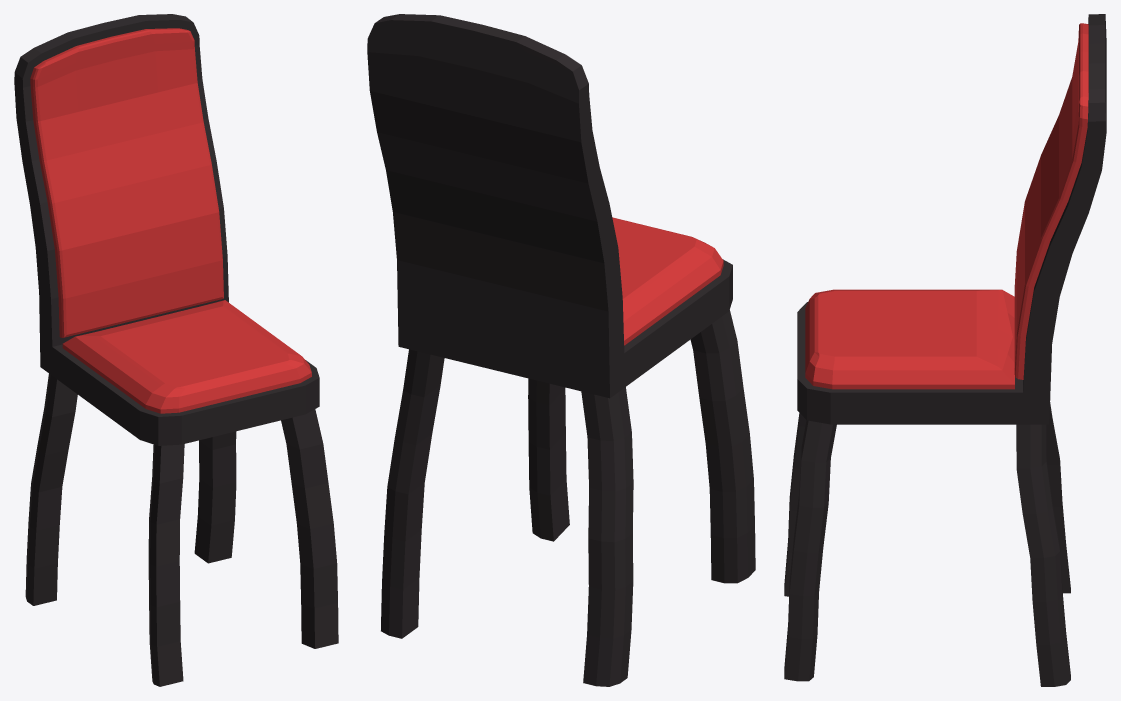
The model's file is SM_chair_01.fbx.
3 renders of one model, left to right at view 1: azimuth 30°, elevation 25°; view 2: azimuth 150°, elevation 25°; view 3: azimuth 270°, elevation 25°, orthographic. The views are drawn at different scales.
Visible parts, largest first — view 1: chair_01; view 2: chair_01; view 3: chair_01.
Part boxes in pixels (left/top/right/bottom): chair_01: left=14, top=14, right=338, bottom=686; chair_01: left=367, top=14, right=755, bottom=686; chair_01: left=784, top=14, right=1106, bottom=686.
Bounding box in the file's own units: 65.11 × 167 × 82.4.
